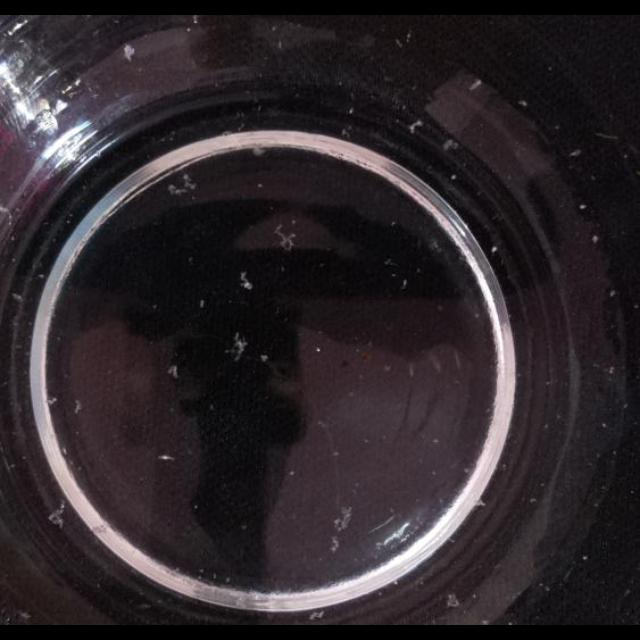Fibre: (168, 172, 198, 196), (226, 332, 248, 362), (332, 504, 353, 534), (274, 224, 298, 250), (46, 506, 66, 528), (238, 272, 254, 290), (408, 118, 424, 134), (442, 138, 458, 152), (123, 44, 135, 61), (468, 78, 482, 90), (252, 146, 266, 156), (72, 400, 82, 414), (168, 364, 178, 378)
microbeads: (167, 184, 179, 196), (10, 292, 22, 304), (341, 126, 352, 138), (48, 396, 58, 406), (570, 149, 582, 157), (260, 353, 270, 362), (396, 38, 404, 48), (591, 234, 599, 243), (383, 363, 391, 372), (332, 450, 340, 458), (609, 289, 617, 297), (432, 436, 440, 444), (240, 523, 248, 531), (464, 466, 472, 474), (402, 279, 408, 289), (518, 100, 528, 106), (450, 173, 458, 180), (579, 203, 587, 210), (492, 244, 498, 253), (199, 300, 205, 308), (256, 182, 264, 188), (608, 365, 614, 373), (582, 554, 588, 562), (348, 107, 354, 115), (288, 469, 294, 476), (530, 497, 536, 503), (601, 422, 607, 428), (315, 346, 321, 352)
